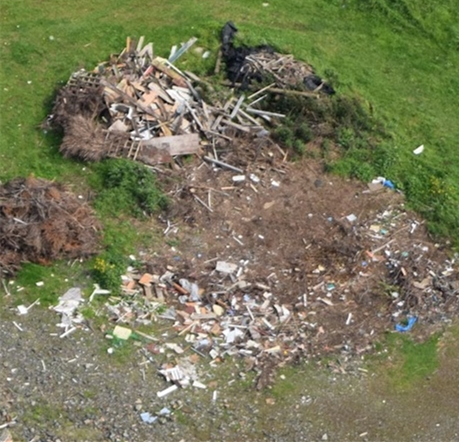together_barrel: (8, 254, 303, 422), (339, 168, 454, 339)
white_in_green: (395, 123, 447, 171)
wood_together: (51, 28, 281, 176), (243, 43, 315, 87)
